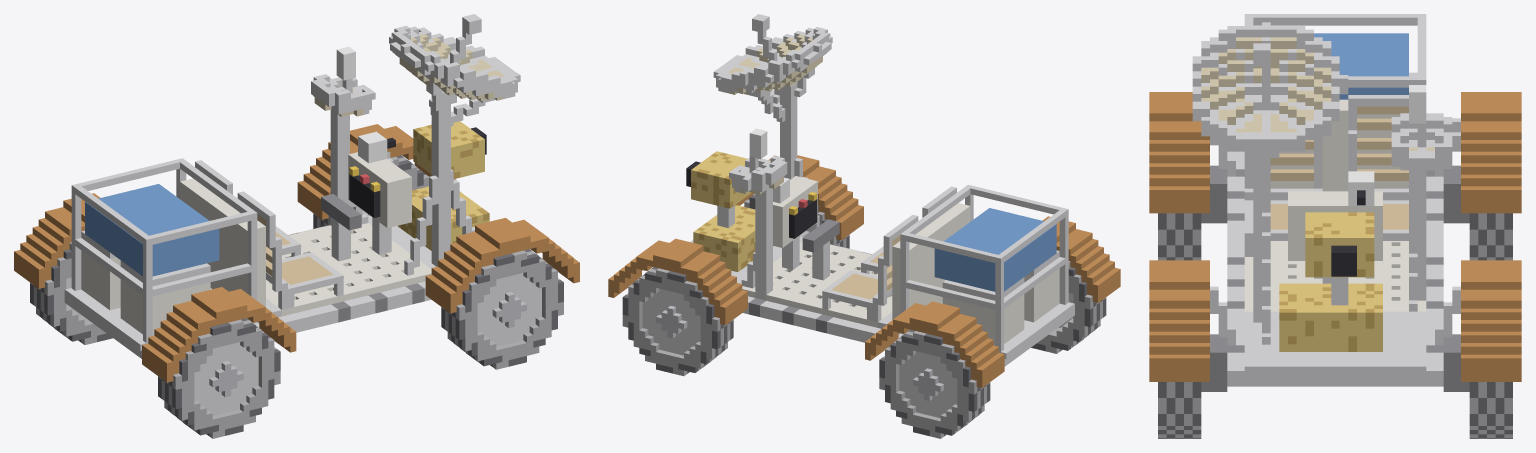
File: Apollo LTV.glb
3 renders of one model, left to right at view 1: azimuth 30°, elevation 25°; view 2: azimuth 150°, elevation 25°; view 3: azimuth 270°, elevation 25°, orthographic. The views are drawn at different scales.
Parts seen in each view (by area): view 1: Apollo_LRV_Voxel; view 2: Apollo_LRV_Voxel; view 3: Apollo_LRV_Voxel.
Boxes of the visible parts, bbox=[...] form: Apollo_LRV_Voxel: bbox=[14, 14, 579, 438]; Apollo_LRV_Voxel: bbox=[608, 14, 1120, 438]; Apollo_LRV_Voxel: bbox=[1149, 14, 1521, 438].
Size of the model in its own units: 5.03 by 3.68 by 3.23.
